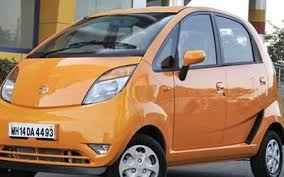Nano: (2, 5, 282, 177)
